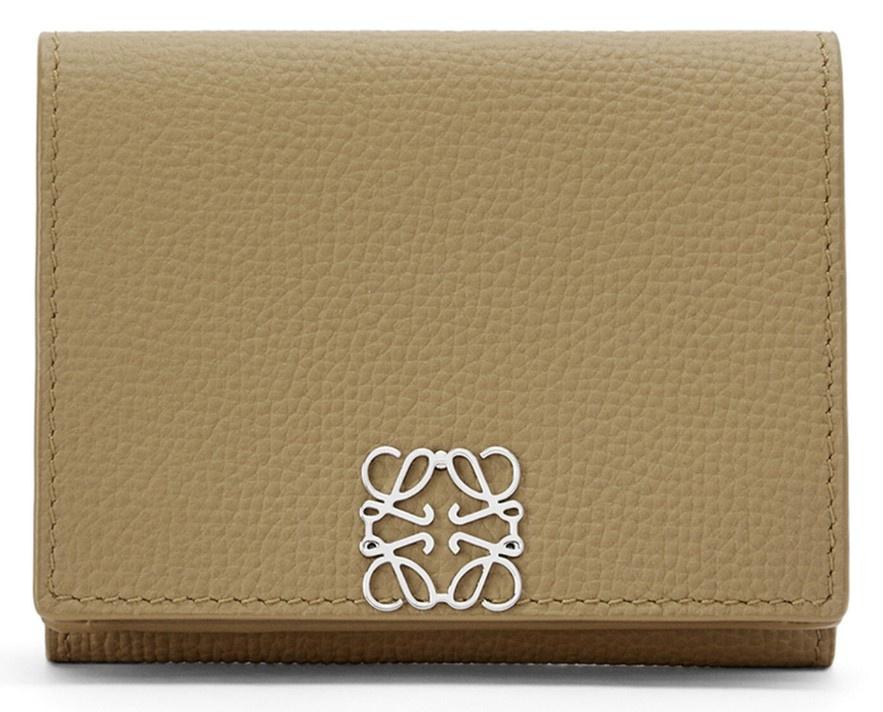LOEWE: (333, 423, 548, 631)
